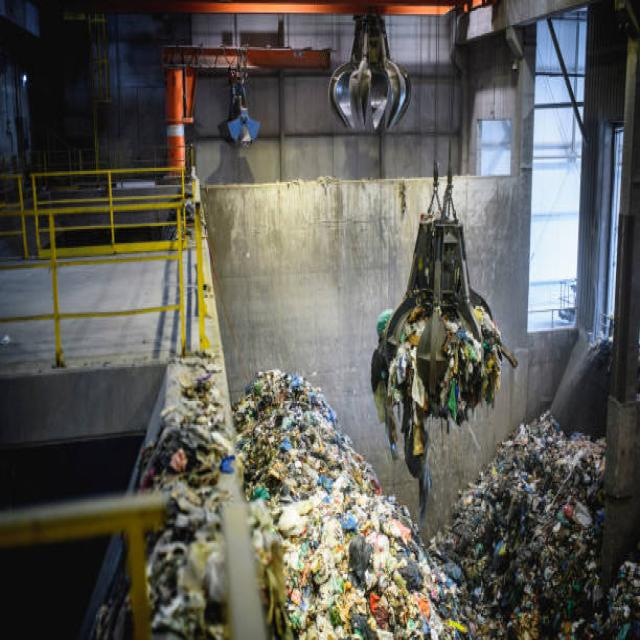trash: (244, 308, 619, 621), (125, 403, 225, 610)
